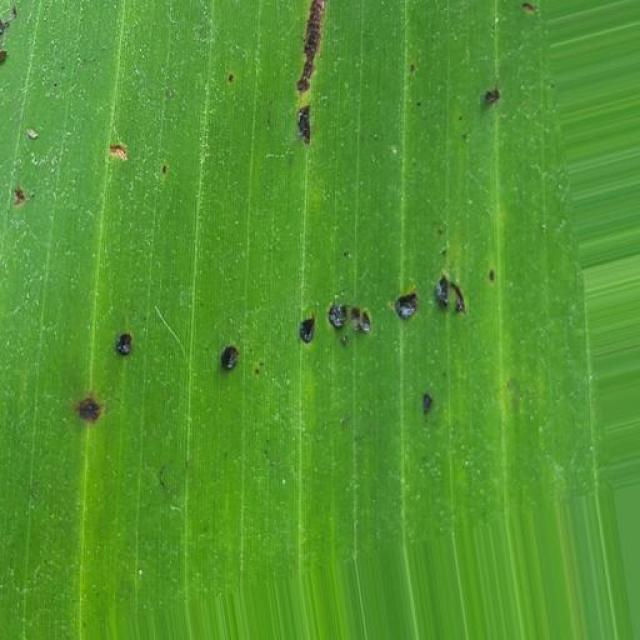Black_rot: (72, 255, 506, 434), (278, 0, 343, 162), (88, 131, 206, 203), (0, 0, 31, 210), (466, 83, 540, 145)
